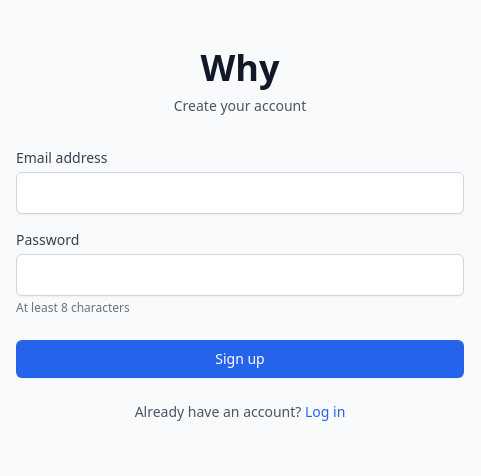
Test: SignupPage › should clear error when submitting again
Type "existing@example.com" into the field labelled "Email address" at [240, 193], box 16,172 -> 464,214
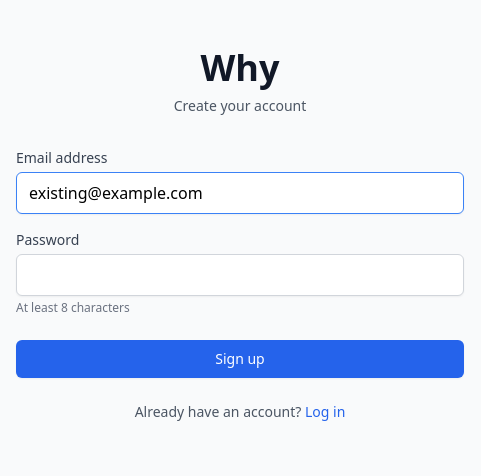
Type "password123" into the password field labelled "Password" at [240, 275], box 16,254 -> 464,296
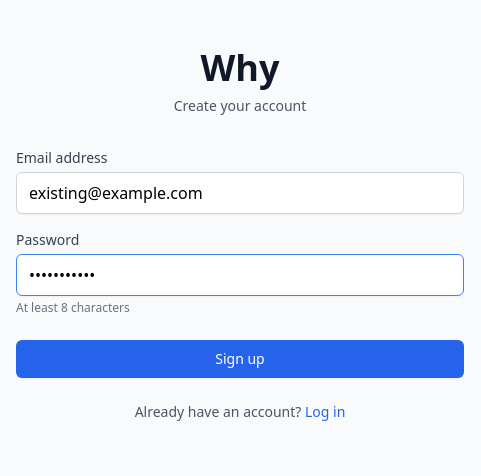
Click the button "Sign up" at [240, 359], box 16,340 -> 464,378
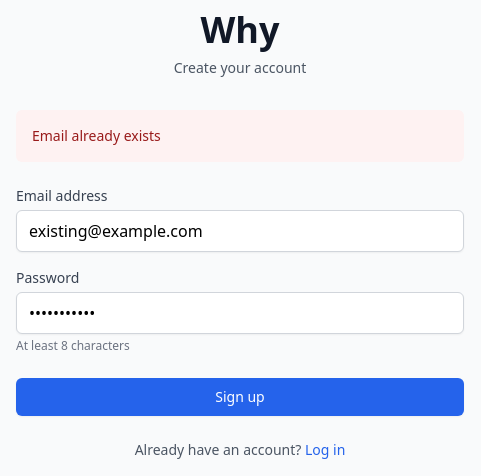
Expected: the text "Email already exists" is shown, 32,126 -> 161,145
Replace the text in the field labelled "Email address" with "newuser@example.com" at [240, 231], box 16,210 -> 464,252
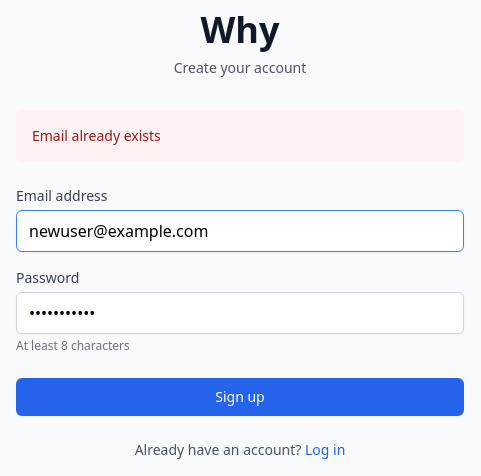
Click the button "Sign up" at [240, 397], box 16,378 -> 464,416
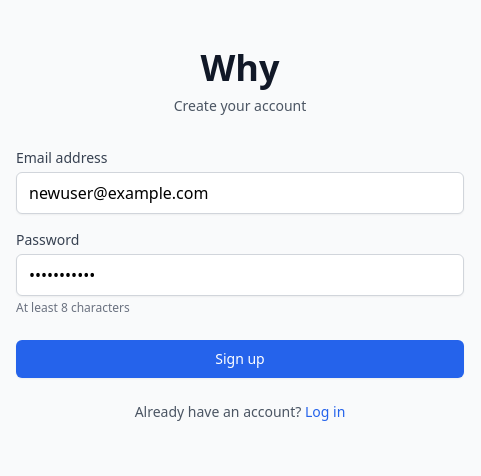
Expected: the text "Email already exists" is gone
